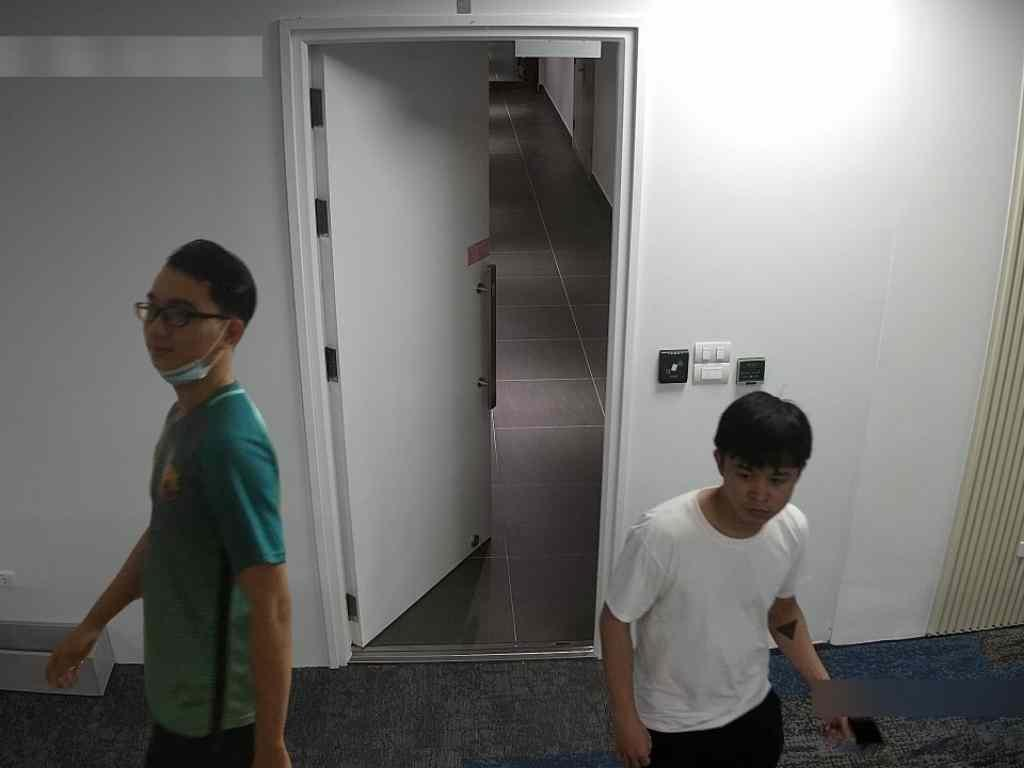no_apron: (26, 596, 112, 696), (596, 704, 672, 768), (243, 715, 300, 768)
no_gloves: (156, 221, 269, 348), (706, 392, 832, 478)
no_hairnet: (130, 317, 230, 387), (713, 480, 803, 534)
